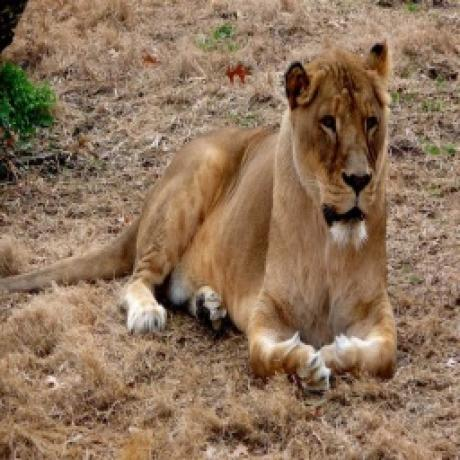Lion: (111, 37, 414, 400)
